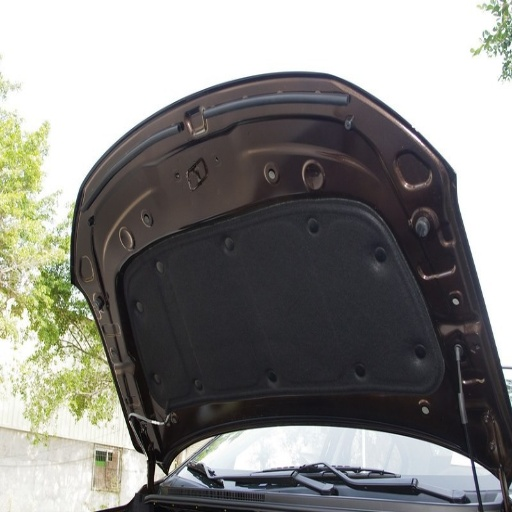back_bumper: (175, 430, 243, 474)
back_glass: (362, 308, 444, 392)
tailgate: (279, 335, 340, 368)
trunk: (215, 174, 257, 217)
